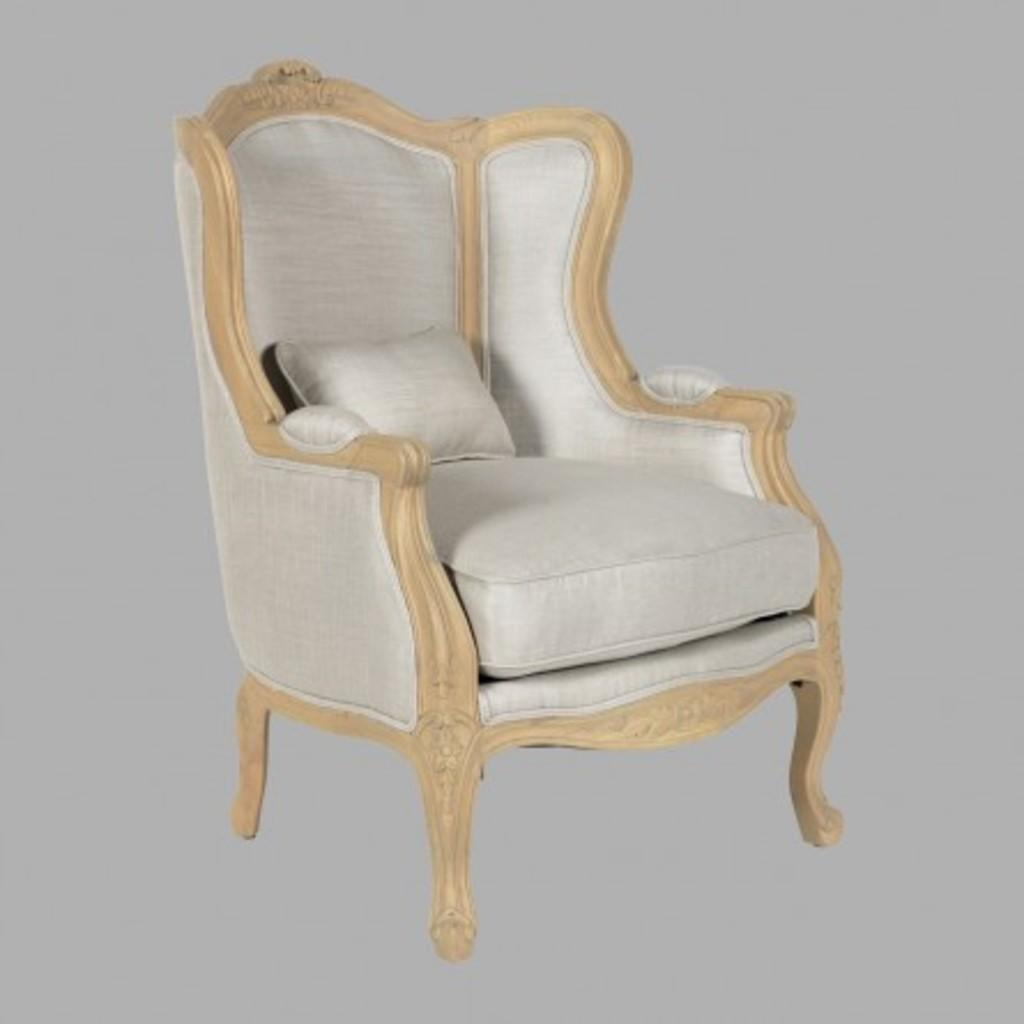Chair: (182, 51, 851, 978)
